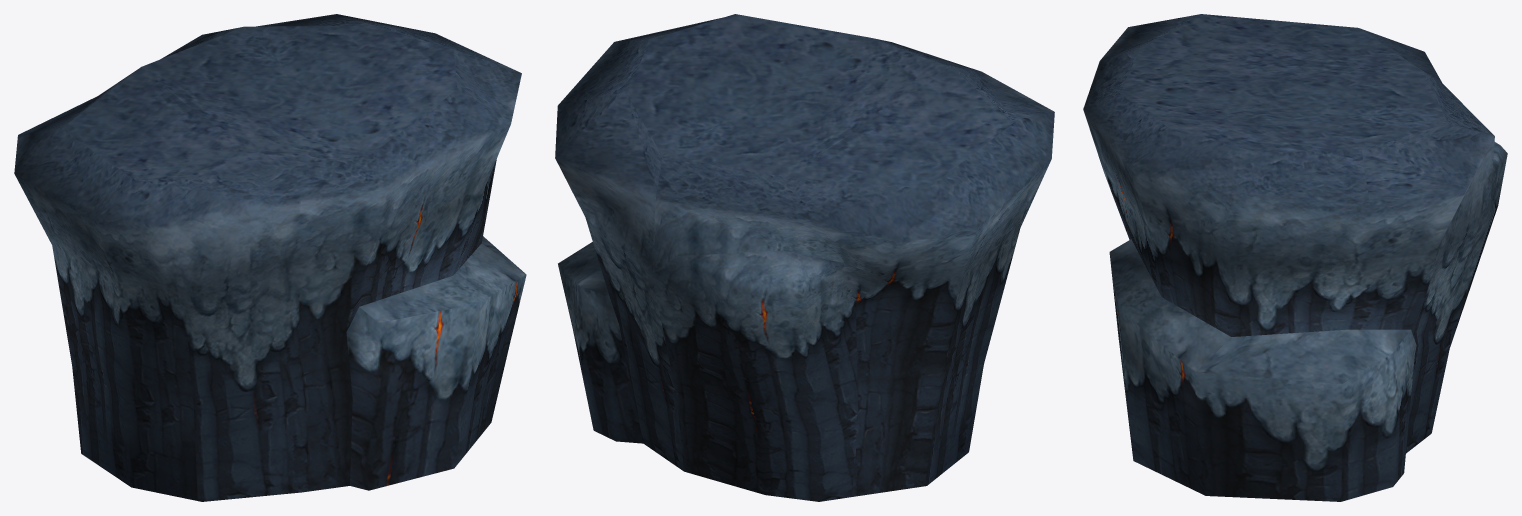
File: Cliff01.FBX
3 renders of one model, left to right at view 1: azimuth 30°, elevation 25°; view 2: azimuth 150°, elevation 25°; view 3: azimuth 270°, elevation 25°, orthographic. The views are drawn at different scales.
Visible parts, largest first — view 1: Cliff01; view 2: Cliff01; view 3: Cliff01.
Part boxes in pixels (x1,y1,x2,y2): Cliff01: (14,14,526,501); Cliff01: (555,14,1054,501); Cliff01: (1083,14,1507,501).
Bounding box in the file's own units: 1426 × 1098 × 1236.
